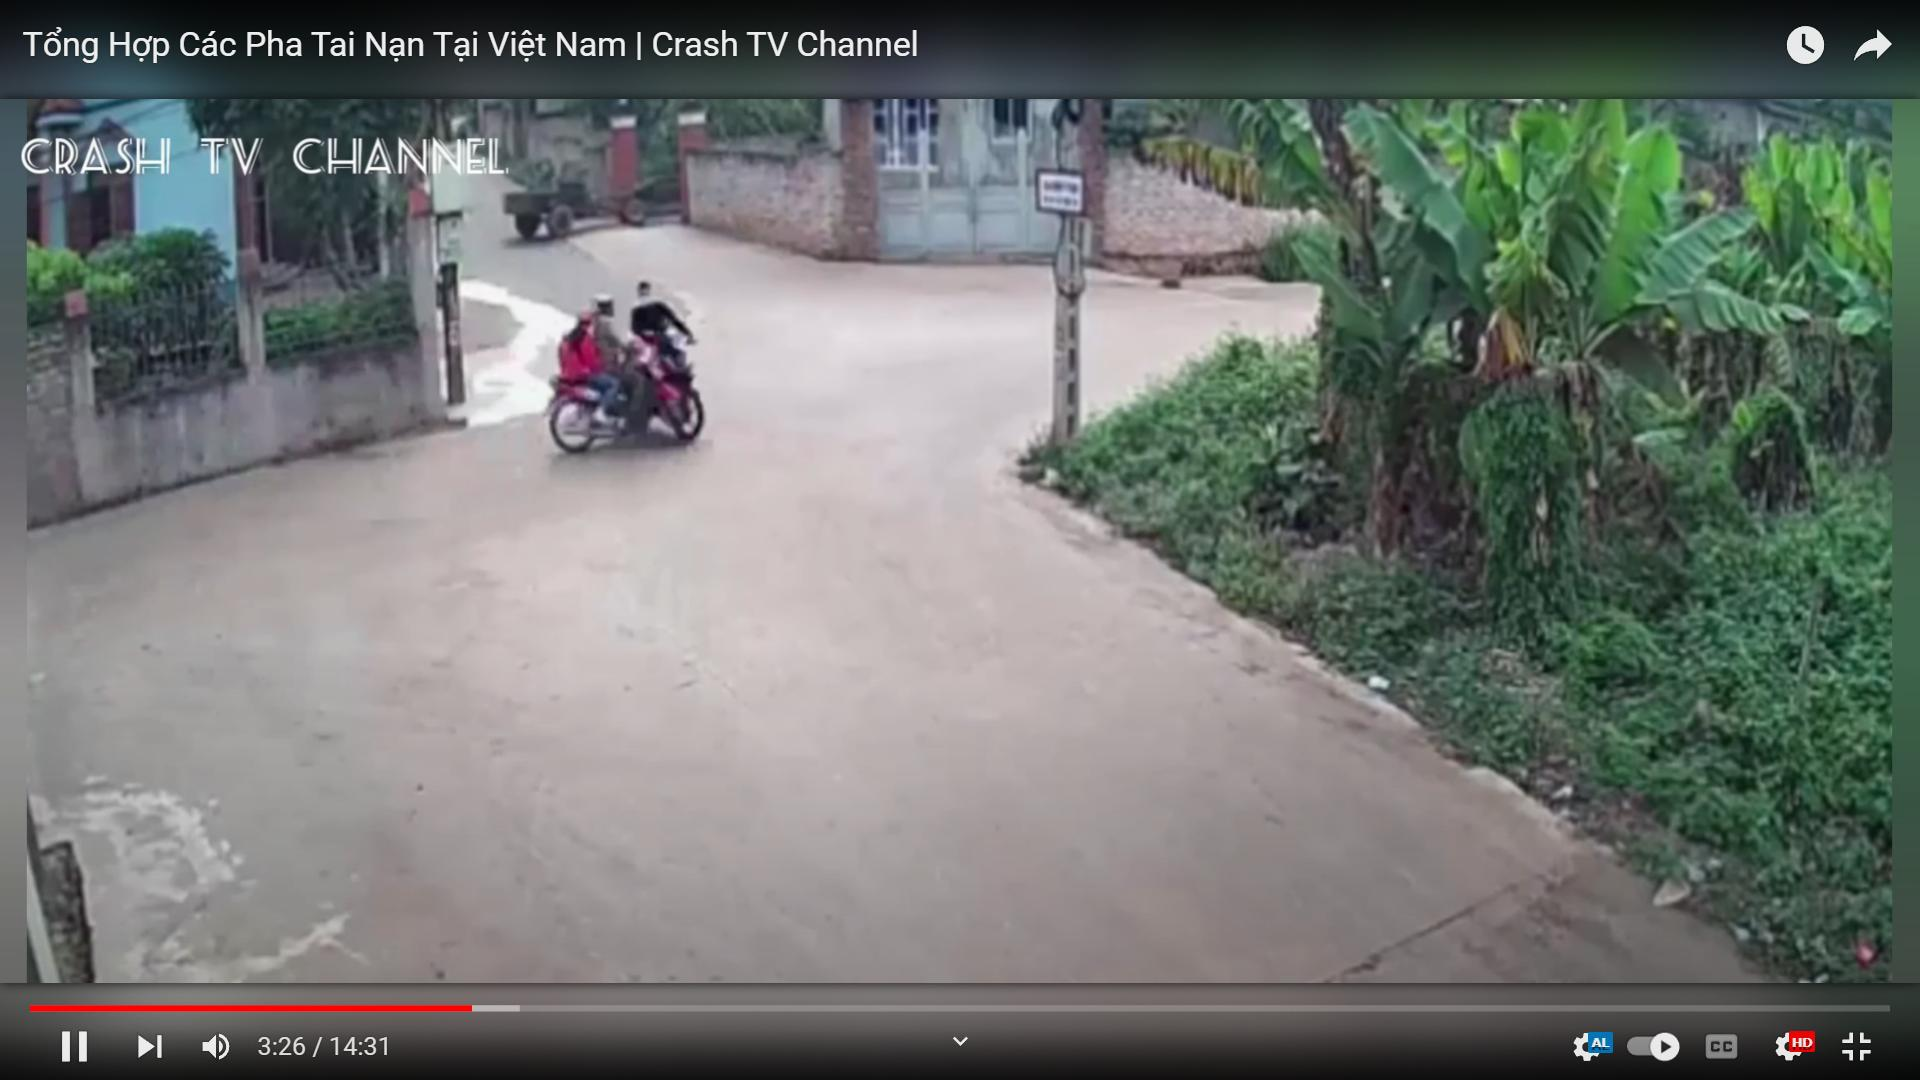accident: (526, 262, 733, 460)
